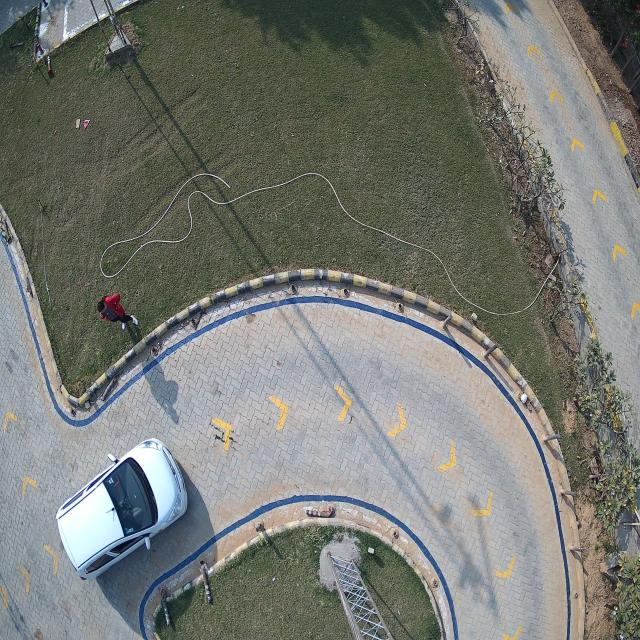car: (55, 437, 190, 584)
